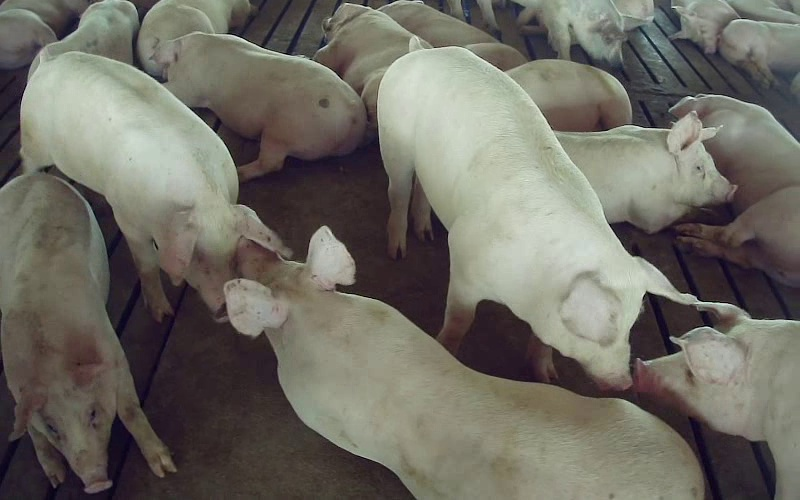pig: (224, 227, 701, 499), (22, 48, 289, 319), (634, 304, 799, 499), (154, 32, 366, 180), (670, 95, 799, 286), (313, 3, 413, 139), (379, 0, 527, 70), (506, 59, 631, 131), (137, 0, 252, 78), (46, 0, 138, 63)
